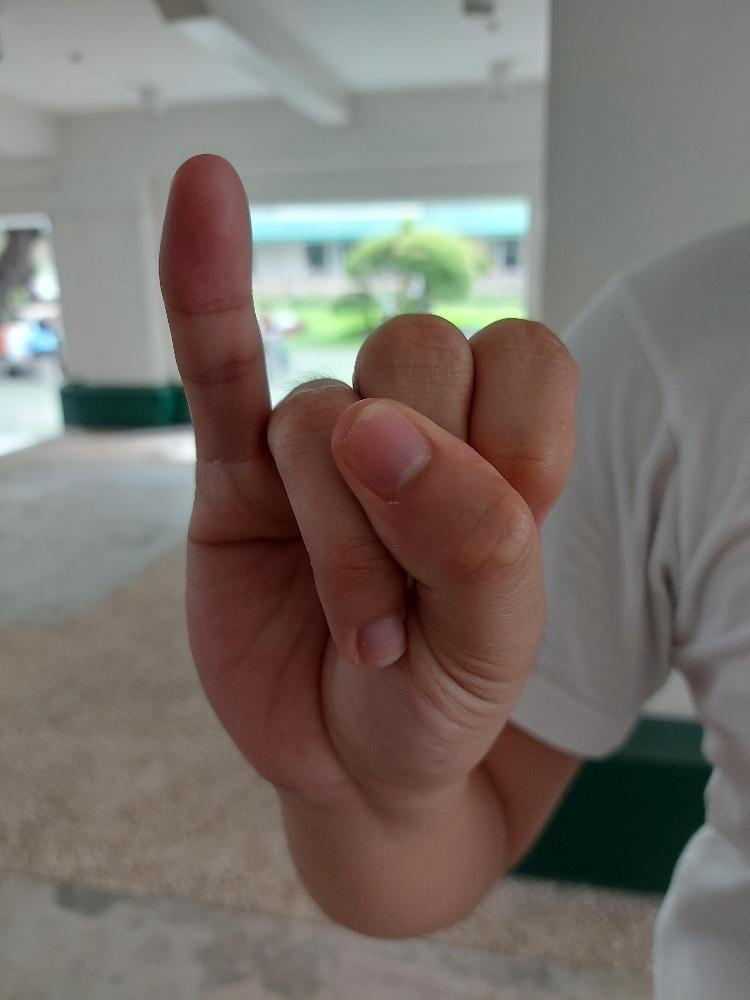i: (154, 148, 587, 795)
